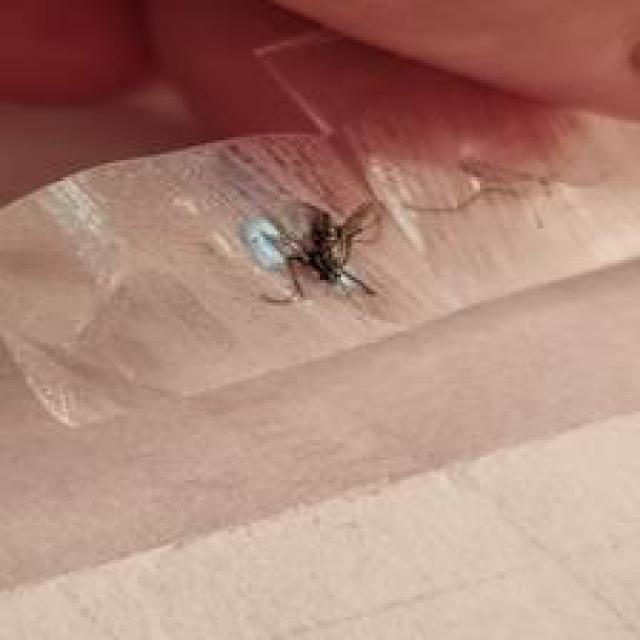Aedes albopictus: (239, 197, 384, 306)
